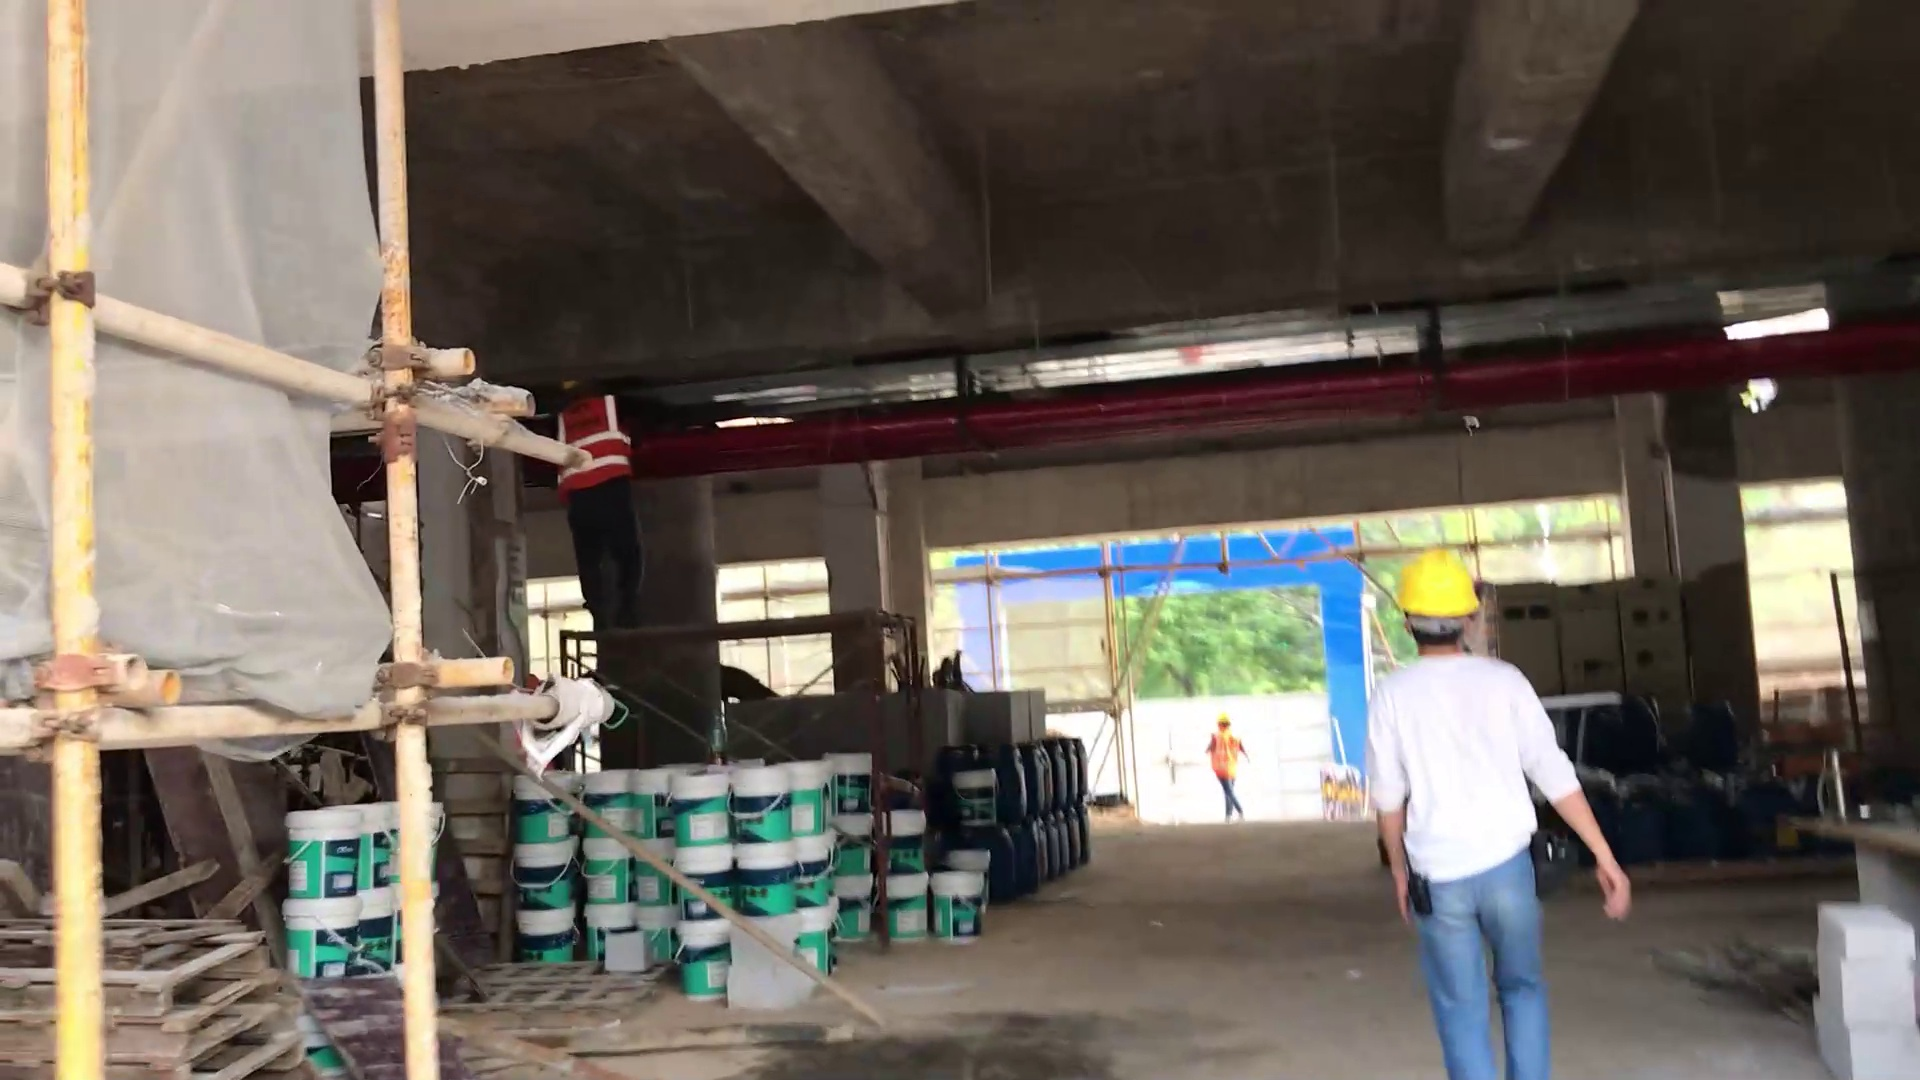helmet: (1385, 550, 1496, 619)
person: (1362, 538, 1588, 1080), (537, 379, 695, 672), (1195, 708, 1266, 819)
vest: (544, 391, 647, 490)
